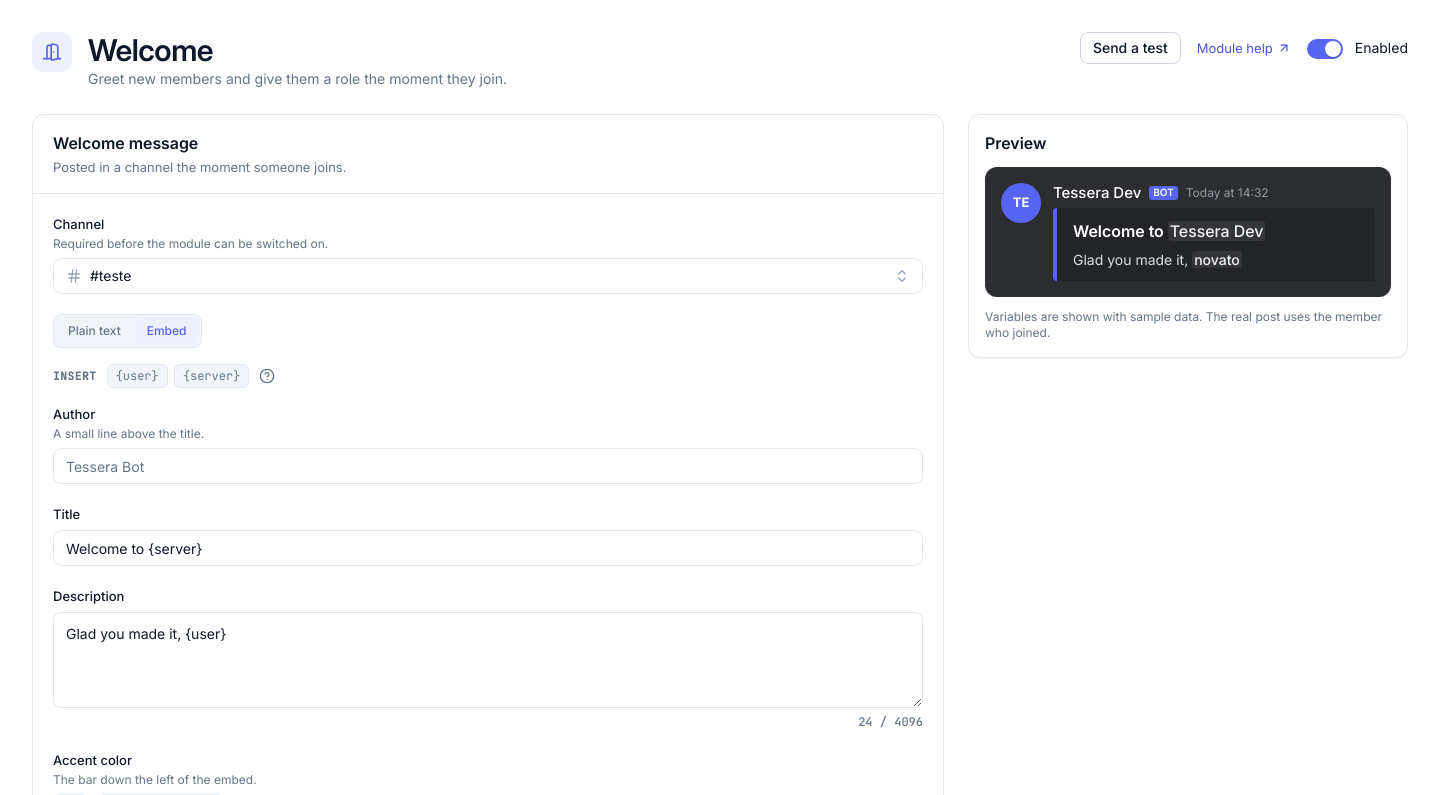
Test: changing where the welcome message goes › names both channels when one replaces the other
What coordinates should you click on to do the following:
click the button "#teste"
I would click on:
 (111, 276)
Its box is [53,258,923,294].
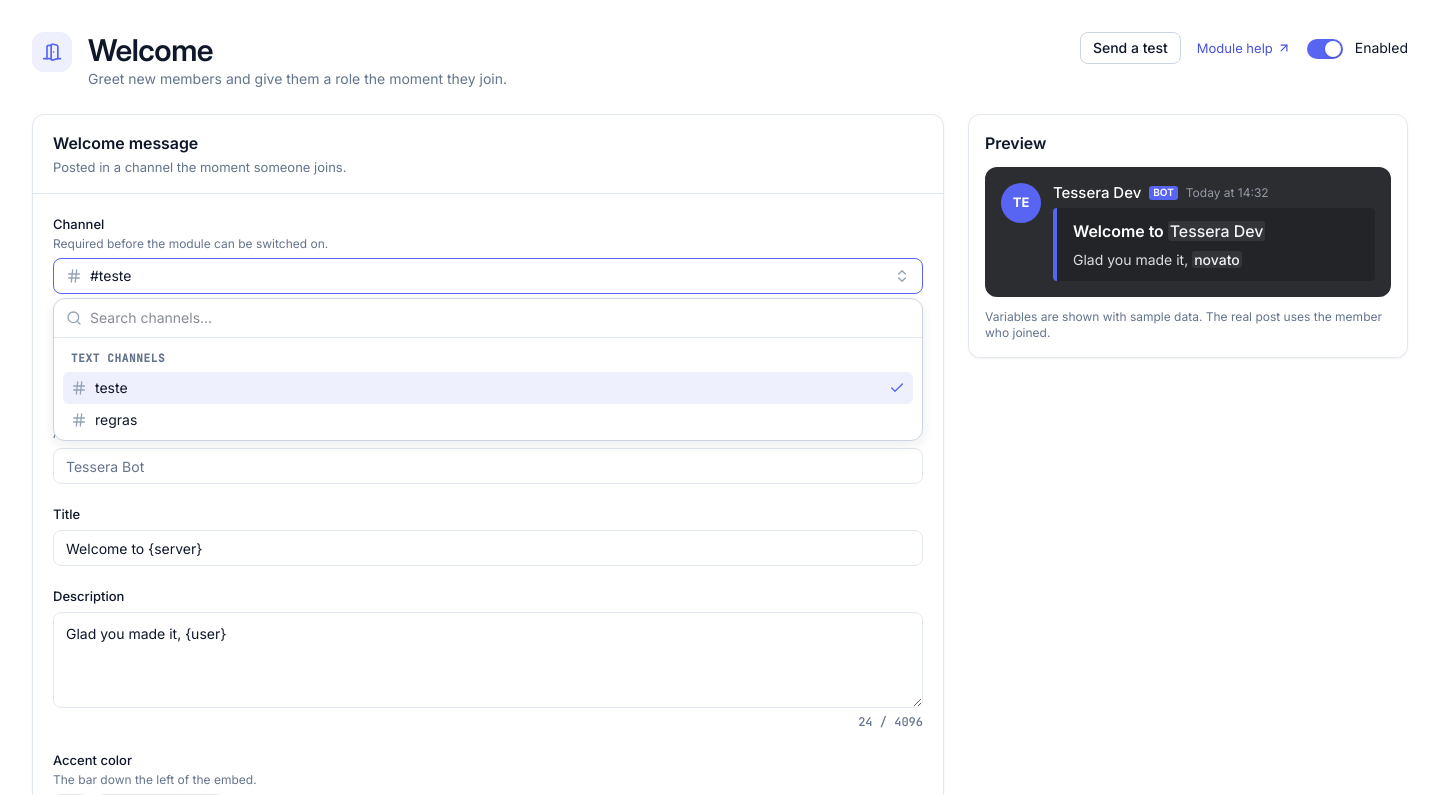
What coordinates should you click on to do the following:
click the button "regras"
I would click on:
 (116, 420)
Its box is [63,404,913,436].
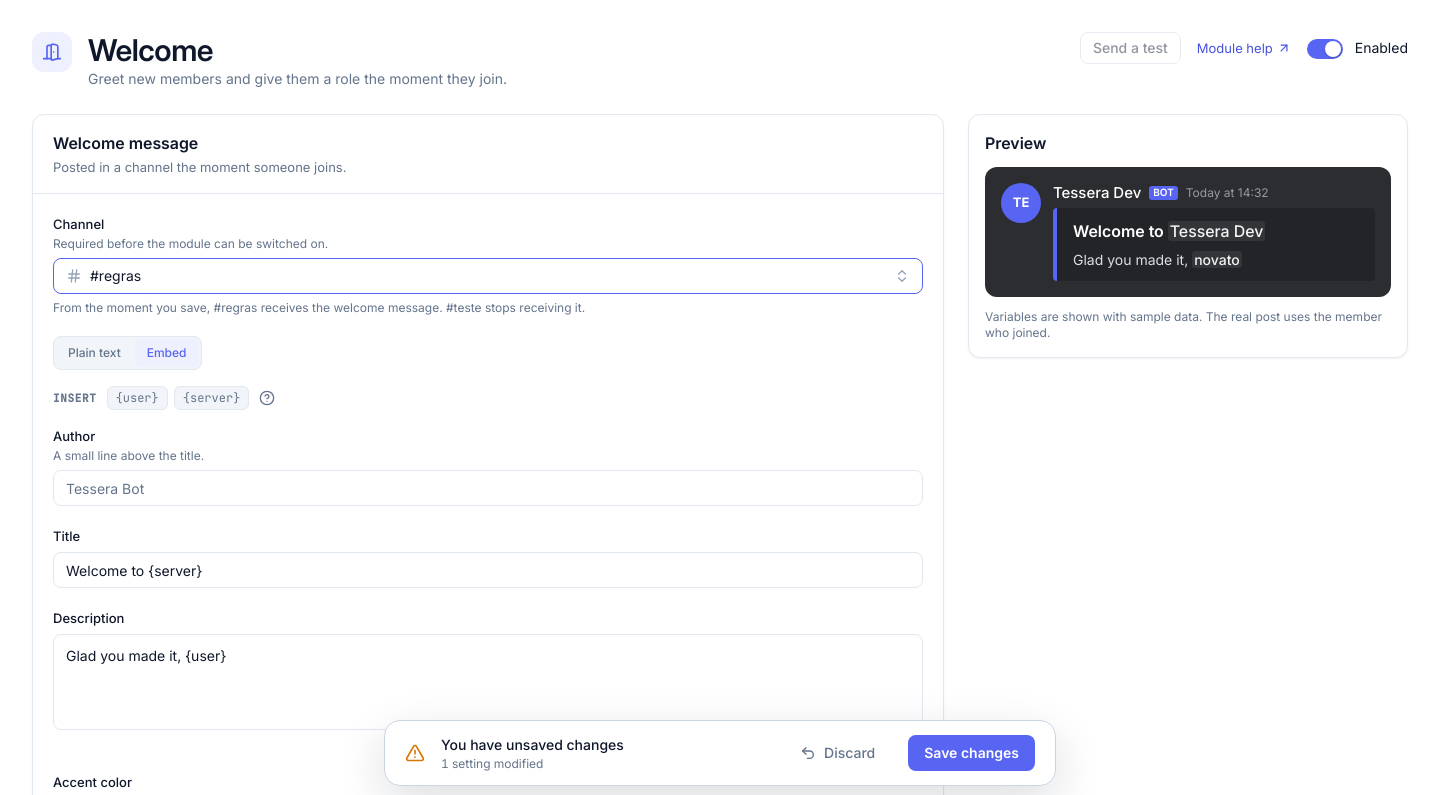
Now the text "From the moment you save, #regras receives the welcome message. #teste stops receiving it." is shown, box [53,300,585,315]
